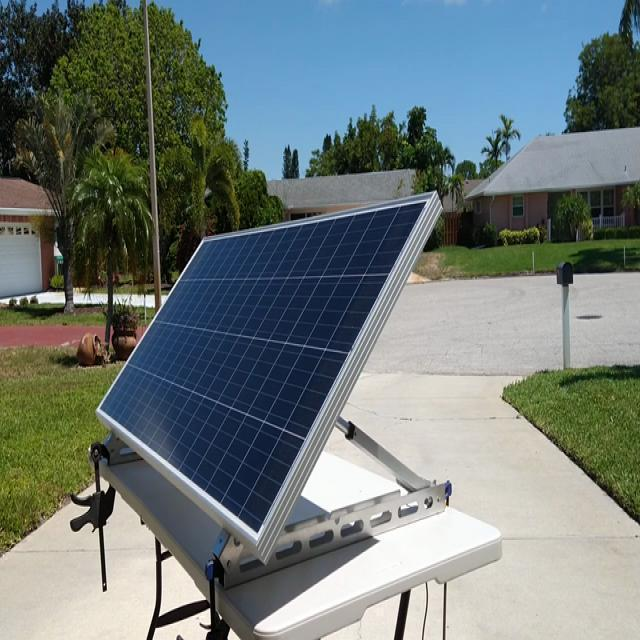Normal Solar Panel: (98, 194, 437, 547)
